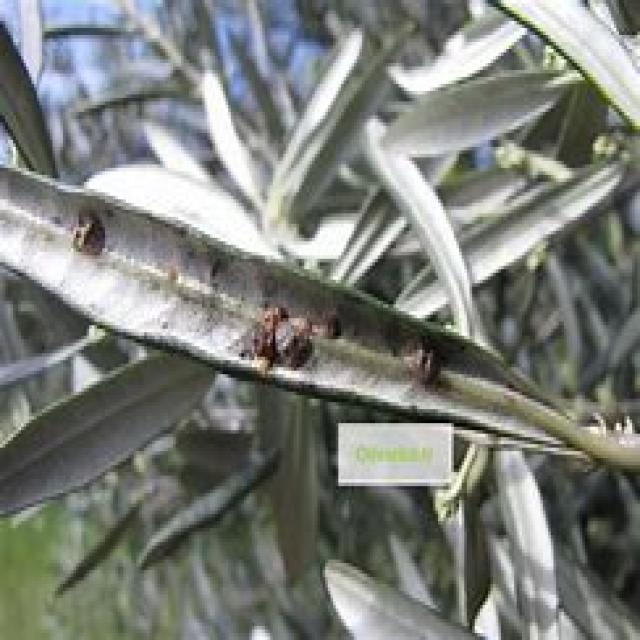Black Scale: (236, 306, 320, 373), (407, 339, 444, 384), (71, 213, 105, 252)
